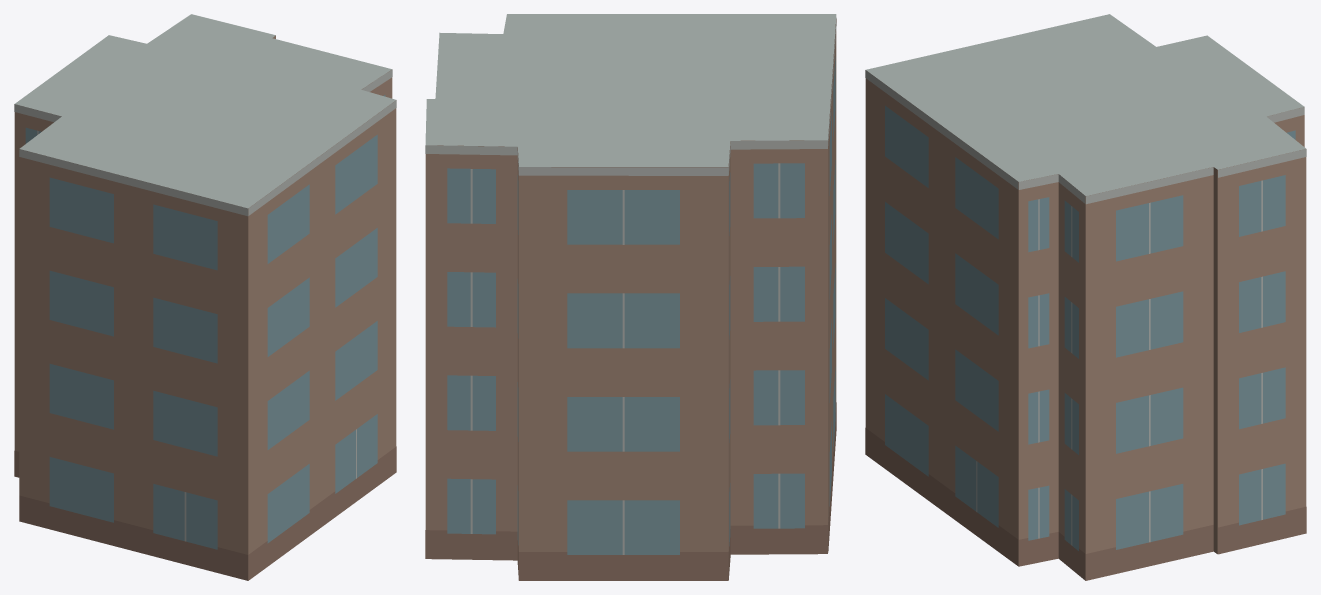
The model's file is survey-upis-32759973.glb.
The picture shows the model from 3 angles, left to right: view 1: azimuth 30°, elevation 25°; view 2: azimuth 150°, elevation 25°; view 3: azimuth 270°, elevation 25°; orthographic projection. The views are drawn at different scales.
Visible parts, largest first — view 1: survey-upis-32759973.tmp; view 2: survey-upis-32759973.tmp; view 3: survey-upis-32759973.tmp.
Boxes of the visible parts, <box> form: survey-upis-32759973.tmp: <box>14,14,396,580</box>; survey-upis-32759973.tmp: <box>425,14,836,580</box>; survey-upis-32759973.tmp: <box>865,14,1306,580</box>.
Bounding box in the file's own units: 11.69 × 11.5 × 11.95.
